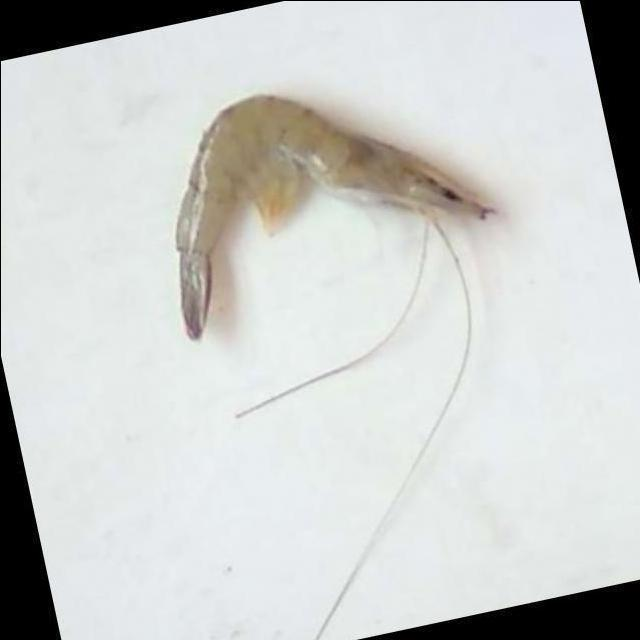shrimp: (176, 94, 493, 339)
